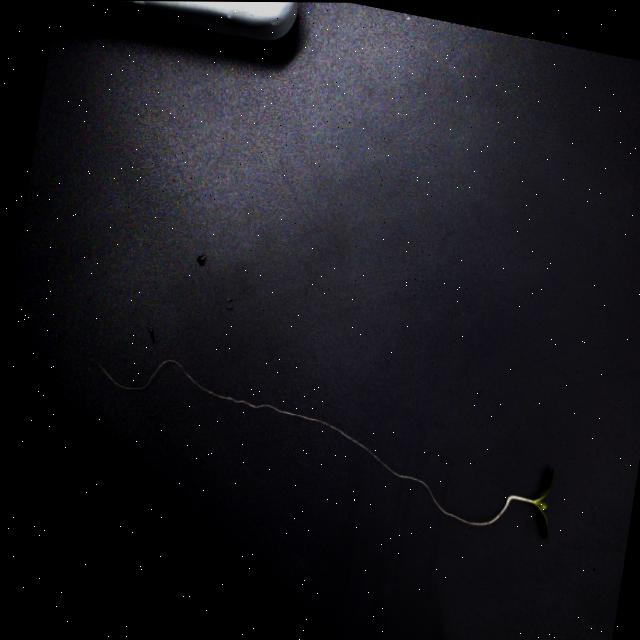leaf: (538, 467, 557, 544)
root: (93, 357, 514, 530)
steb: (511, 493, 544, 512)
